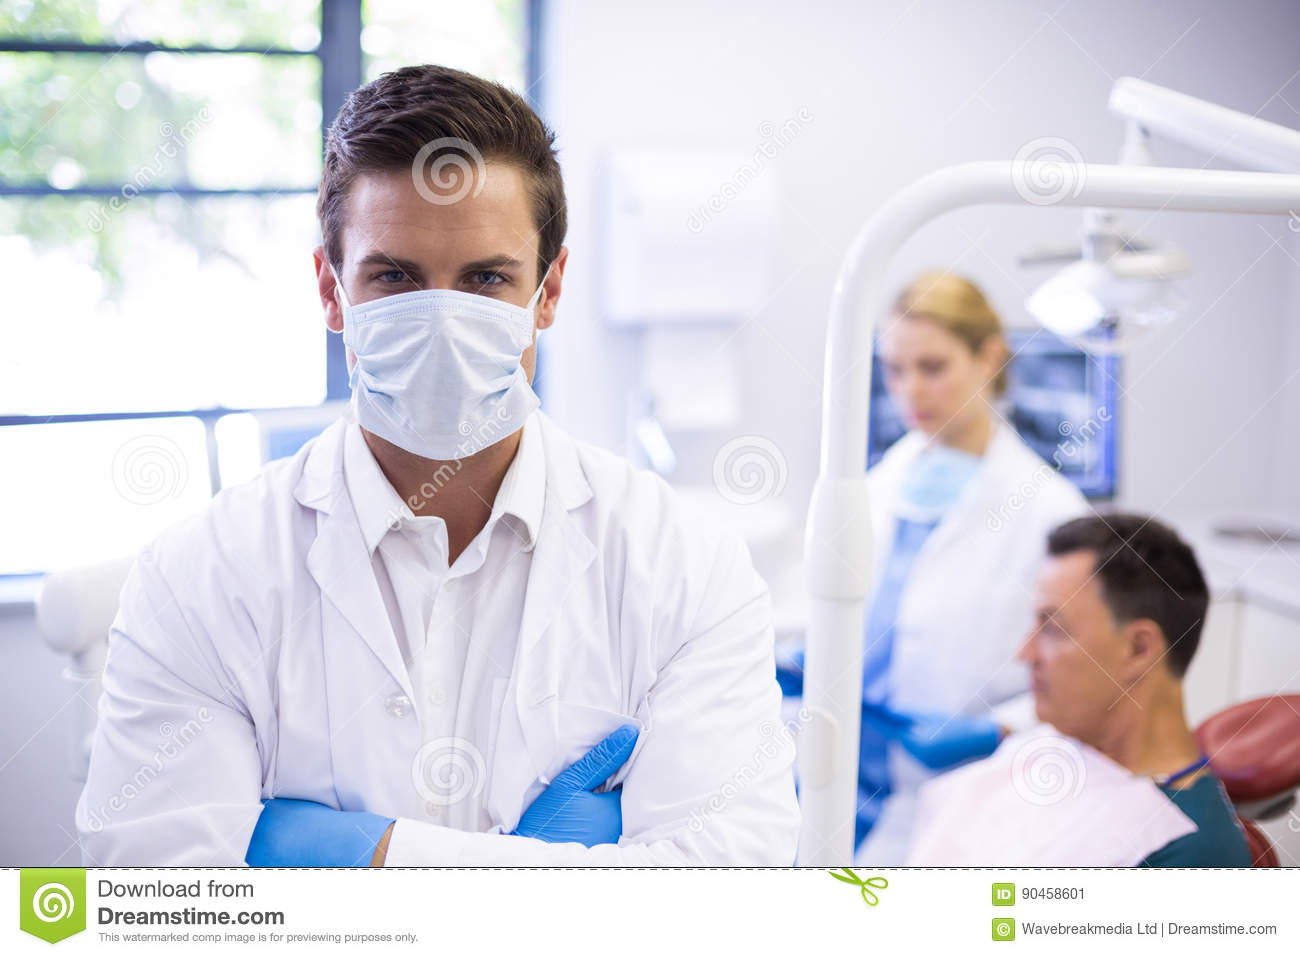mask: (341, 296, 538, 466)
